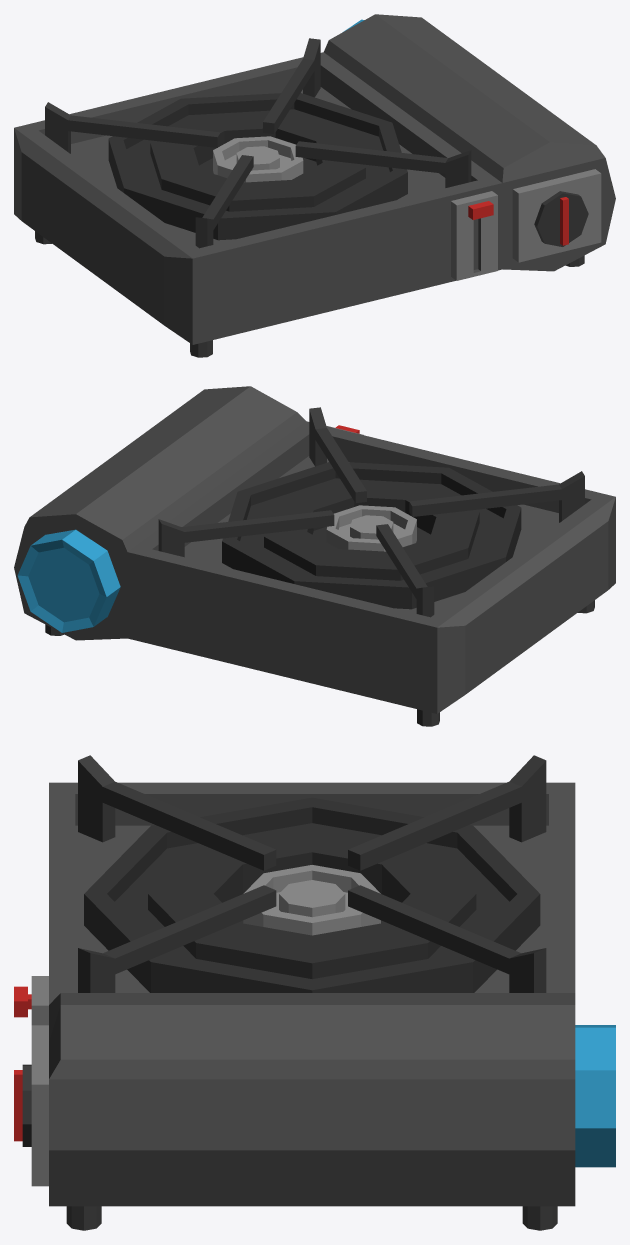
Rendered from Portable Cooker.fbx.
3 renders of one model, top to bottom at view 1: azimuth 30°, elevation 25°; view 2: azimuth 150°, elevation 25°; view 3: azimuth 270°, elevation 25°, orthographic. The views are drawn at different scales.
Visible parts, largest first — view 1: Portable Cooker, Pan Stands, Dial; view 2: Portable Cooker, Pan Stands; view 3: Portable Cooker, Pan Stands, Dial.
Part boxes in pixels (x1=…): Portable Cooker: x1=14, y1=14, x2=615, y2=357; Pan Stands: x1=45, y1=38, x2=471, y2=248; Dial: x1=534, y1=191, x2=588, y2=246; Portable Cooker: x1=14, y1=386, x2=615, y2=726; Pan Stands: x1=158, y1=407, x2=584, y2=617; Portable Cooker: x1=31, y1=782, x2=615, y2=1230; Pan Stands: x1=78, y1=755, x2=546, y2=992; Dial: x1=14, y1=1064, x2=31, y2=1146.
Size of the model in its own units: 4.2 by 1.25 by 3.43.
